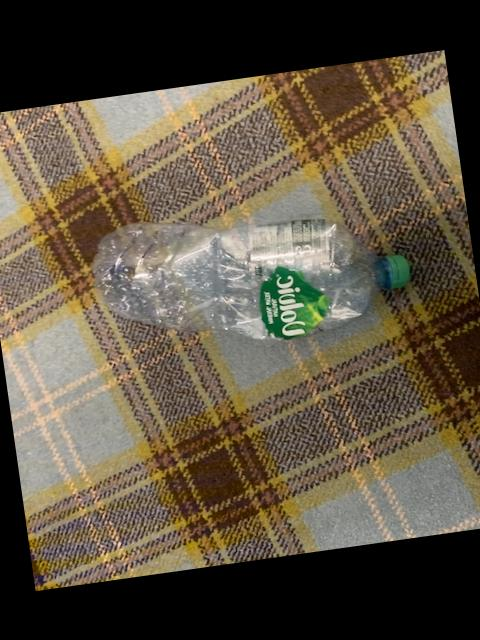plastic: (94, 220, 411, 339)
